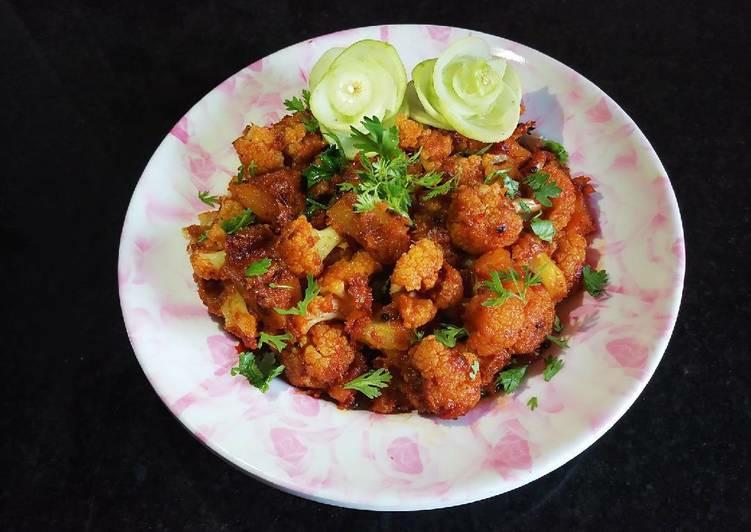AlooGobi: (185, 38, 606, 421)
